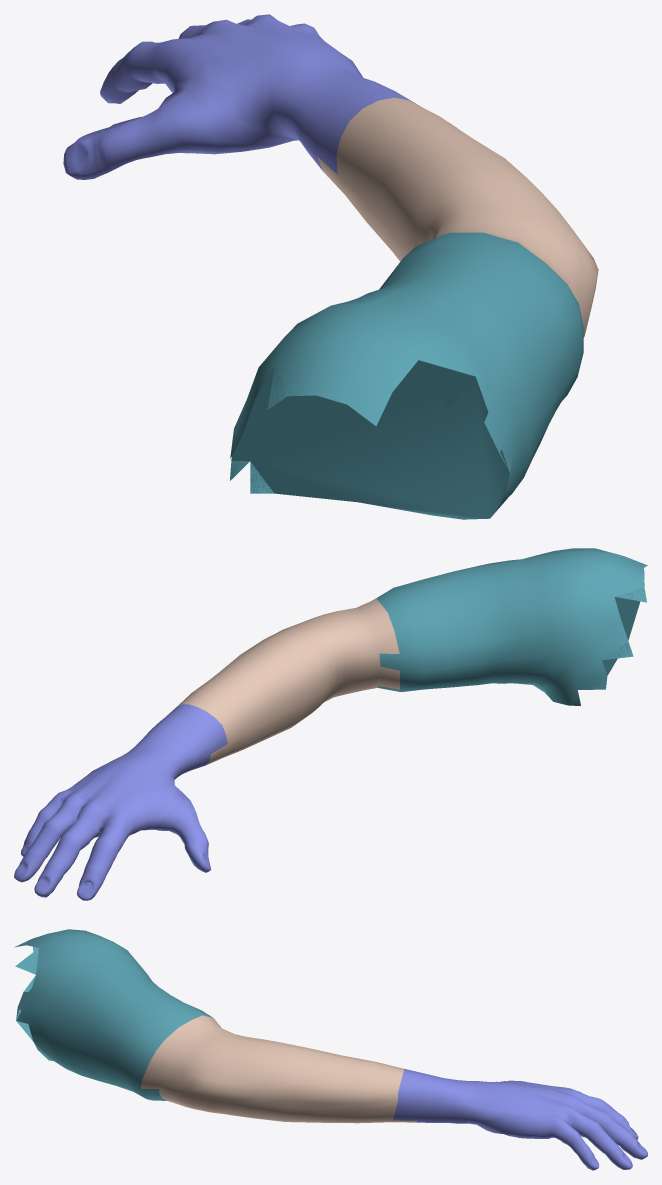
Rendered from main_plate.glb.
The picture shows the model from 3 angles, top to bottom: view 1: azimuth 30°, elevation 25°; view 2: azimuth 150°, elevation 25°; view 3: azimuth 270°, elevation 25°; orthographic projection. The views are drawn at different scales.
Parts seen in each view (by area): view 1: main_plate; view 2: main_plate; view 3: main_plate.
Boxes of the visible parts, left/top/right/bottom form: main_plate: left=63, top=14, right=598, bottom=519; main_plate: left=14, top=548, right=647, bottom=900; main_plate: left=14, top=929, right=647, bottom=1170.
Bounding box in the file's own units: 0.3458 × 0.1547 × 0.6703.
